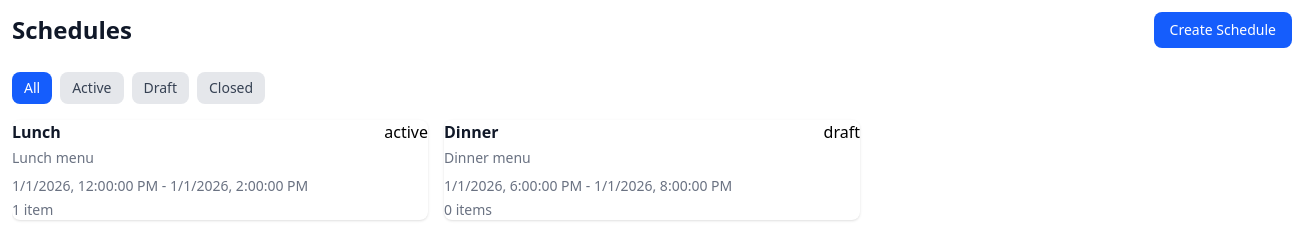
Schedules › filters by status
expect the heading "Lunch" is shown: met, box [12, 120, 61, 144]
Click the button "Active": (92, 88) [60, 72, 124, 104]
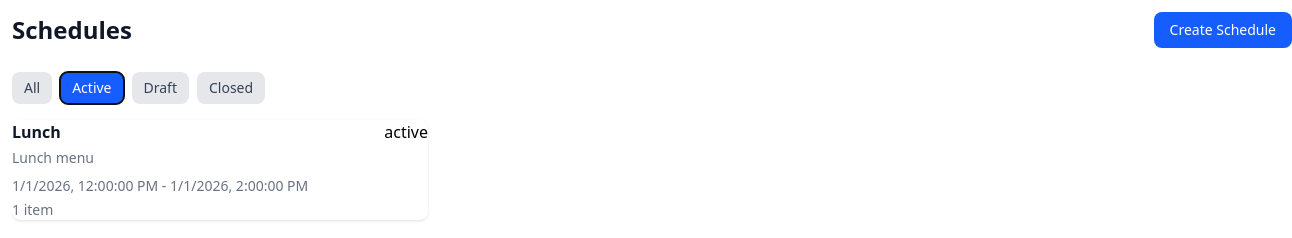
expect the heading "Lunch" is shown: met, box [12, 120, 61, 144]
expect the button "Dinner" is gone: met
